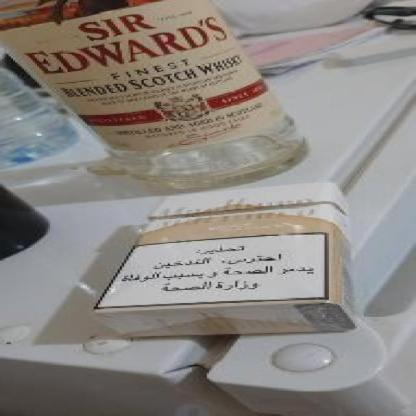objects: (92, 182, 356, 338)
